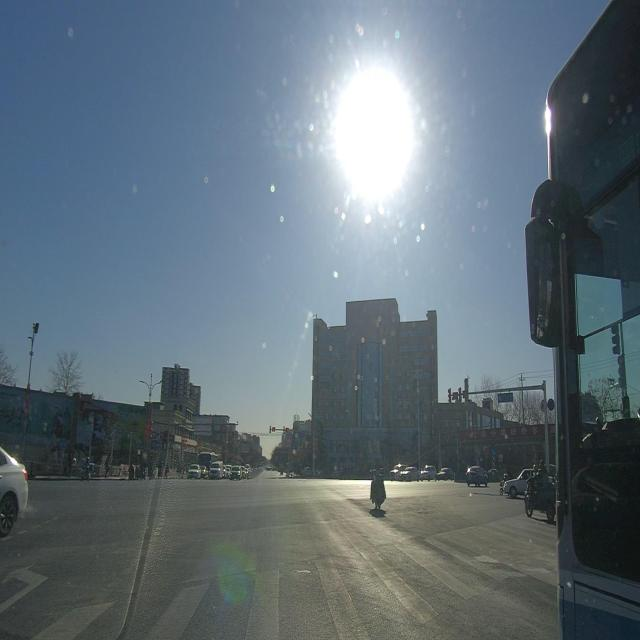Traffic Light -Off-: (448, 387, 452, 404), (458, 388, 462, 402)
Traffic Light -Red-: (283, 426, 285, 434), (270, 425, 271, 433)
